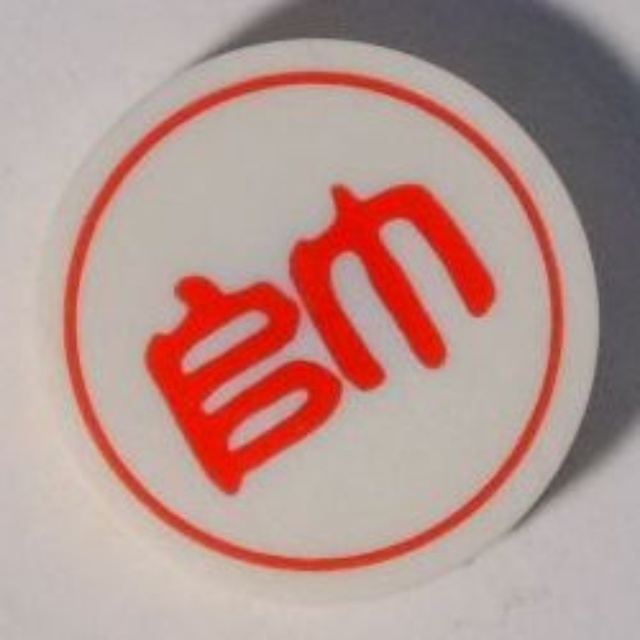red_tuong: (33, 32, 624, 599)
